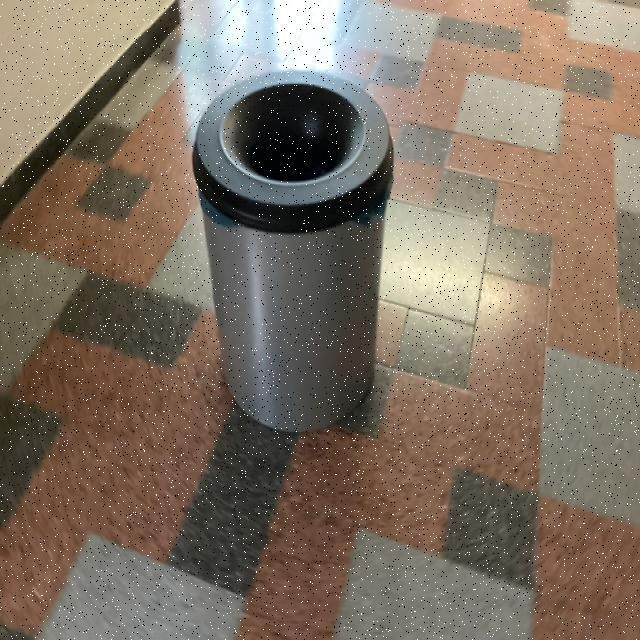garbage container: (173, 55, 401, 448)
